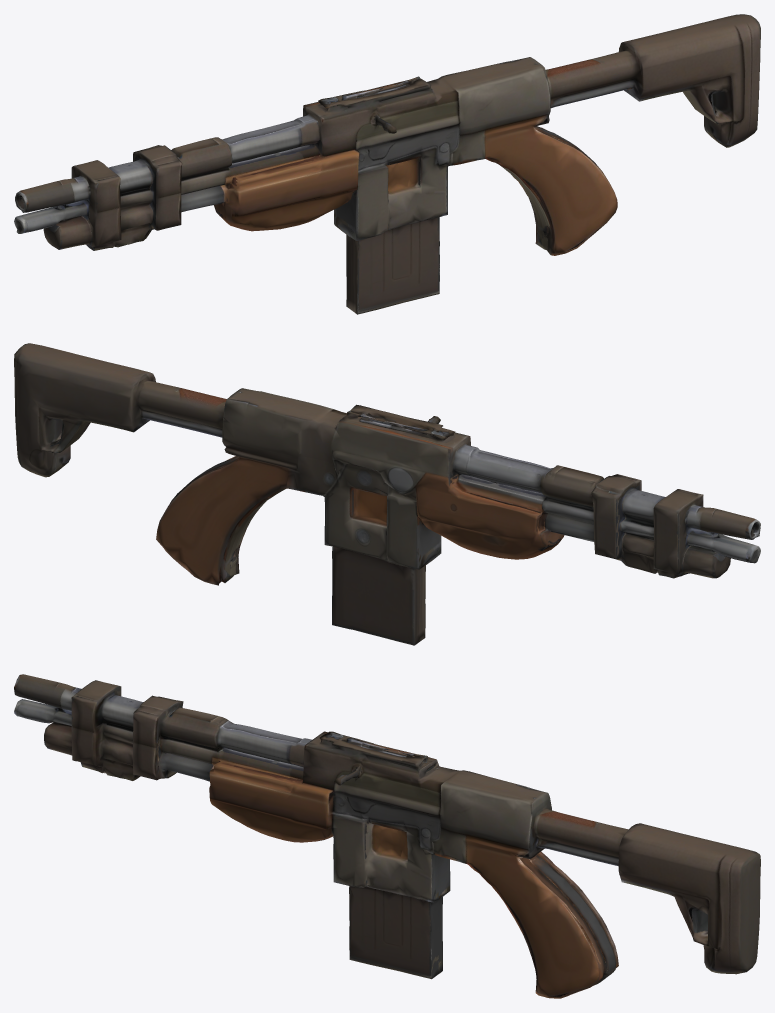
Rendered from Rebel_Rifle.glb.
The picture shows the model from 3 angles, top to bottom: view 1: azimuth 30°, elevation 25°; view 2: azimuth 150°, elevation 25°; view 3: azimuth 330°, elevation 25°; orthographic projection.
Bounding box in the file's own units: 1.98 × 0.552 × 0.1976.
1 material, 1 textured.
